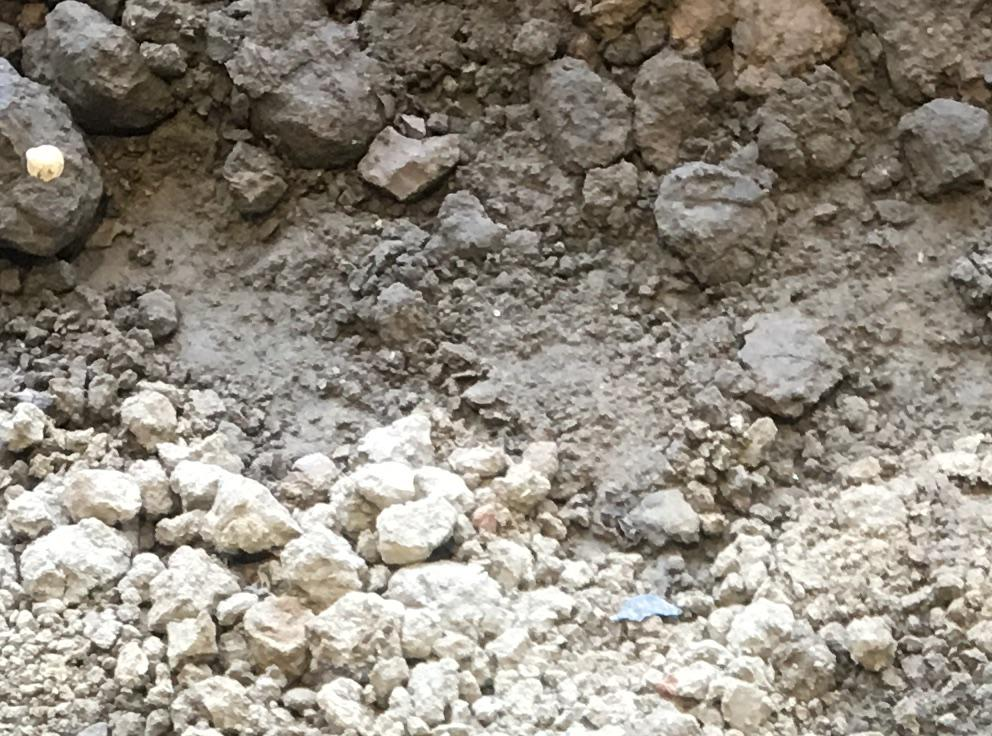block: (1, 57, 114, 257), (21, 1, 175, 132), (243, 35, 398, 163), (651, 149, 775, 289), (735, 303, 840, 417), (534, 52, 637, 168), (17, 518, 133, 606), (635, 46, 715, 168), (894, 95, 987, 190), (198, 467, 295, 552), (373, 494, 460, 564)
